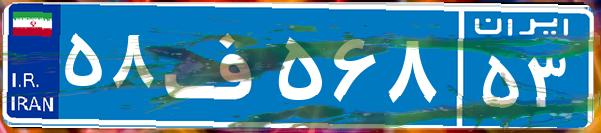3: (525, 38, 570, 115)
5: (273, 28, 330, 110), (57, 26, 110, 107), (475, 38, 525, 113)
6: (330, 28, 385, 110)
8: (385, 28, 445, 110), (110, 28, 158, 105)
ف: (158, 15, 273, 115)
